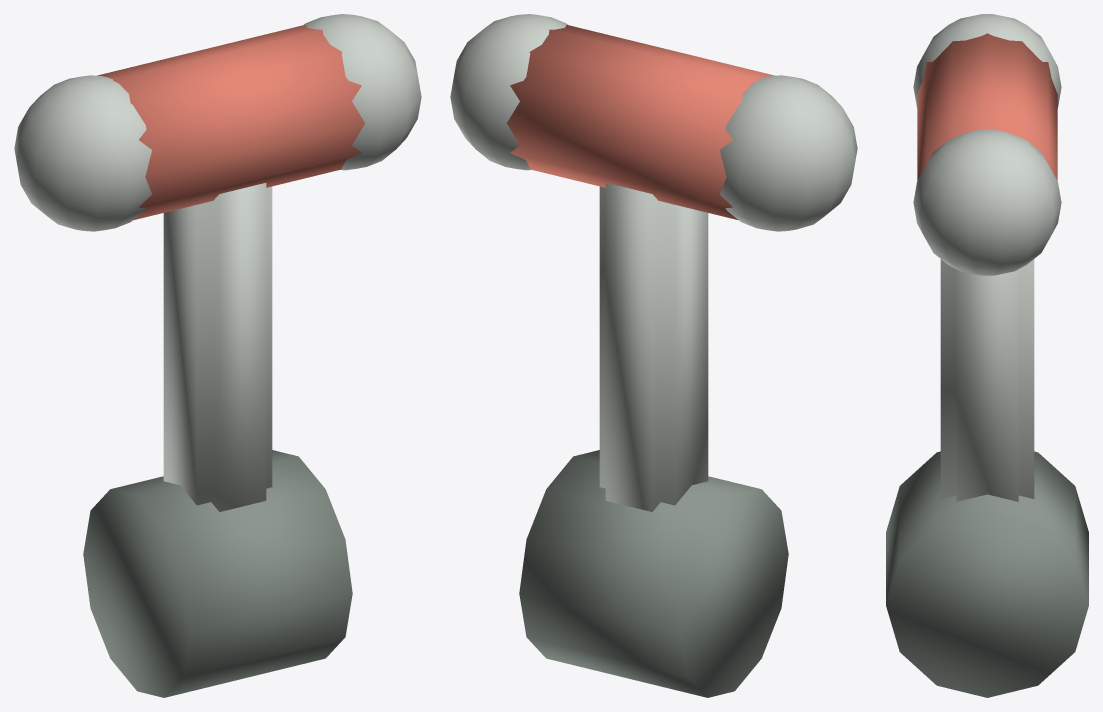
Rendered from ballast-lever.glb.
3 renders of one model, left to right at view 1: azimuth 30°, elevation 25°; view 2: azimuth 150°, elevation 25°; view 3: azimuth 270°, elevation 25°, orthographic. The views are drawn at different scales.
Visible parts, largest first — view 1: BallastLever; view 2: BallastLever; view 3: BallastLever.
Boxes of the visible parts, x1,y1,x2,y2 form: BallastLever: [14, 14, 421, 697]; BallastLever: [450, 14, 857, 697]; BallastLever: [886, 14, 1088, 697].
Size of the model in its own units: 0.2141 by 0.33 by 0.104.
